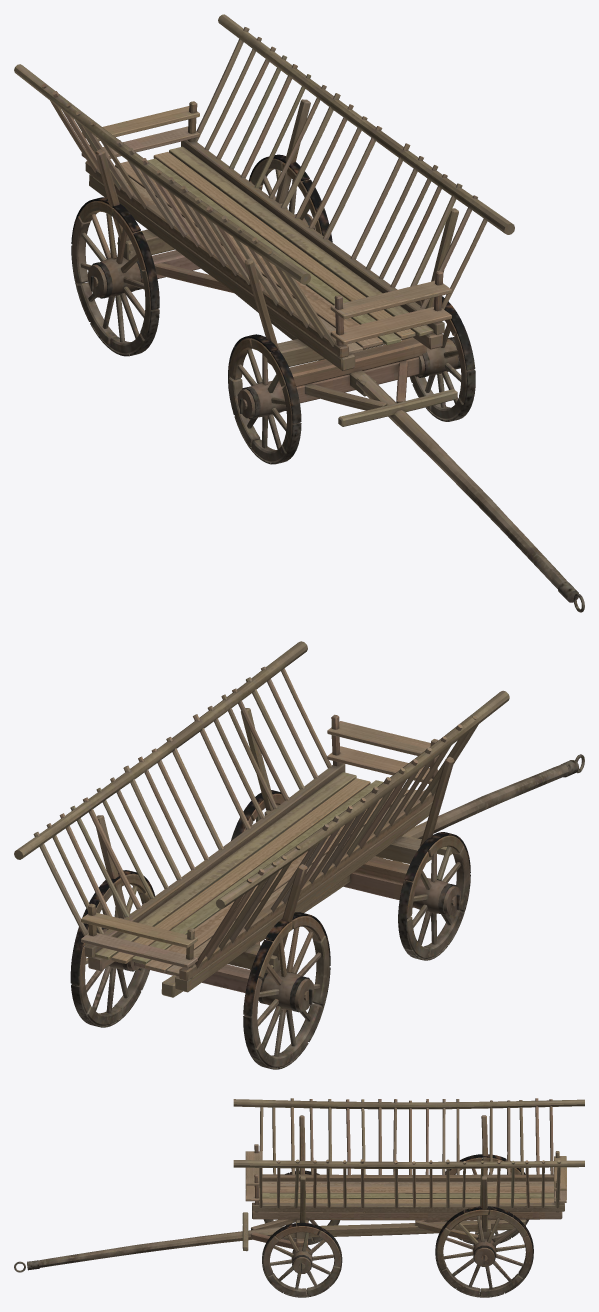
The model's file is zebrinak_1.glb.
3 views of the same model, one above another, from view 1: azimuth 30°, elevation 25°; view 2: azimuth 150°, elevation 25°; view 3: azimuth 270°, elevation 25° (orthographic). The views are drawn at different scales.
Parts seen in each view (by area): view 1: zebrinak_1; view 2: zebrinak_1; view 3: zebrinak_1.
Part boxes in pixels (x1,y1,x2,y2): zebrinak_1: (14,14,584,612); zebrinak_1: (14,641,584,1069); zebrinak_1: (14,1098,584,1297).
Bounding box in the file's own units: 1.73 × 1.76 × 6.26.
Materials: 1 (1 with a texture image).
